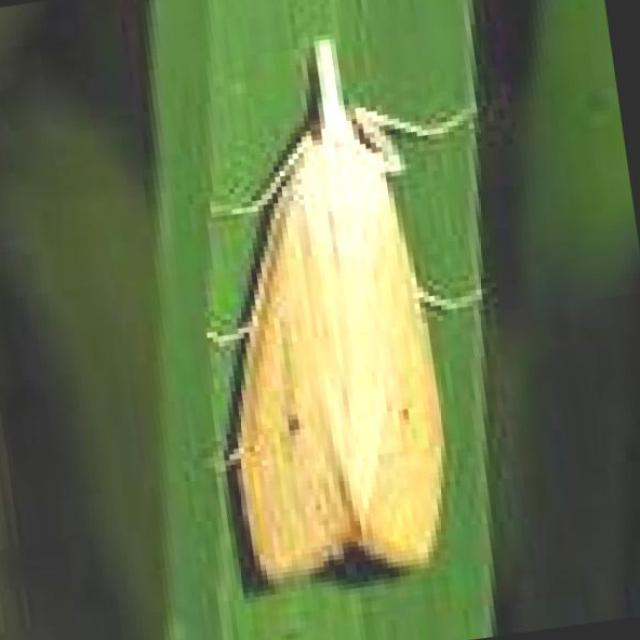stem borer: (206, 39, 481, 582)
